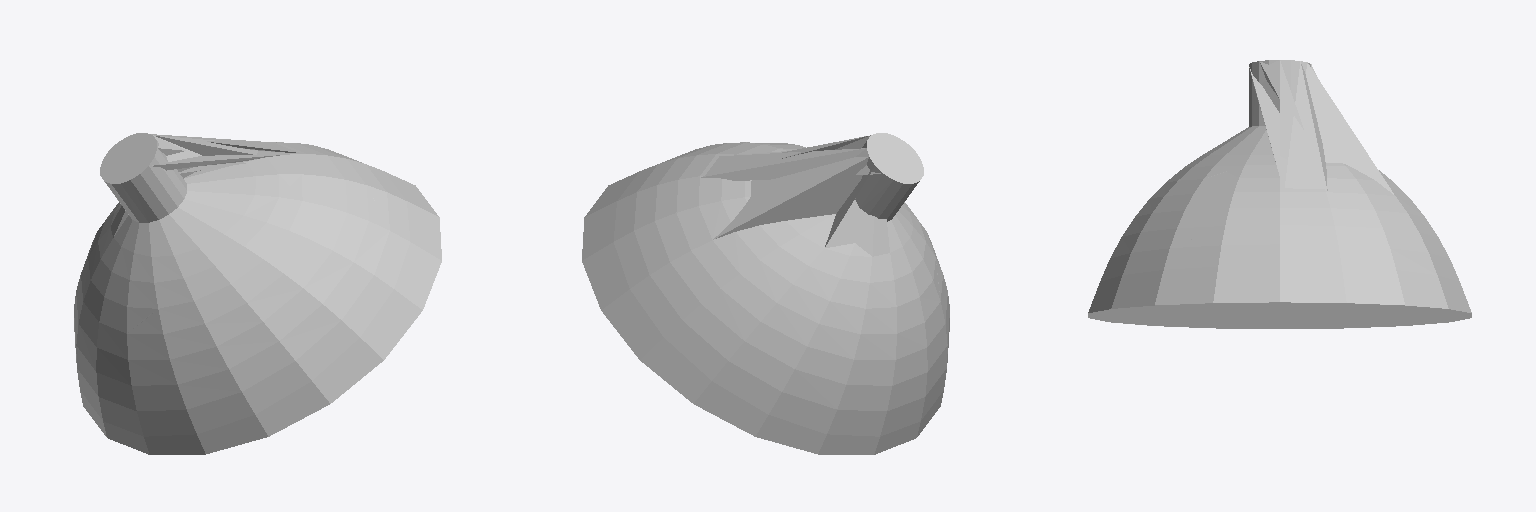
The model's file is Desk lamp.obj.
The picture shows the model from 3 angles: view 1: azimuth 30°, elevation 25°; view 2: azimuth 150°, elevation 25°; view 3: azimuth 270°, elevation 25°; orthographic projection.
Parts seen in each view (by area): view 1: Cylinder006, Cylinder002, Cylinder001; view 2: Cylinder006, Cylinder002; view 3: Cylinder006, Cylinder002.
Boxes of the visible parts, <box> form: Cylinder006: <box>74,133,441,454</box>; Cylinder002: <box>100,133,374,256</box>; Cylinder001: <box>127,175,301,359</box>; Cylinder006: <box>582,133,949,454</box>; Cylinder002: <box>701,133,923,301</box>; Cylinder006: <box>1088,60,1471,328</box>; Cylinder002: <box>1191,60,1393,239</box>.
Size of the model in its own units: 100414 by 87723 by 104696.